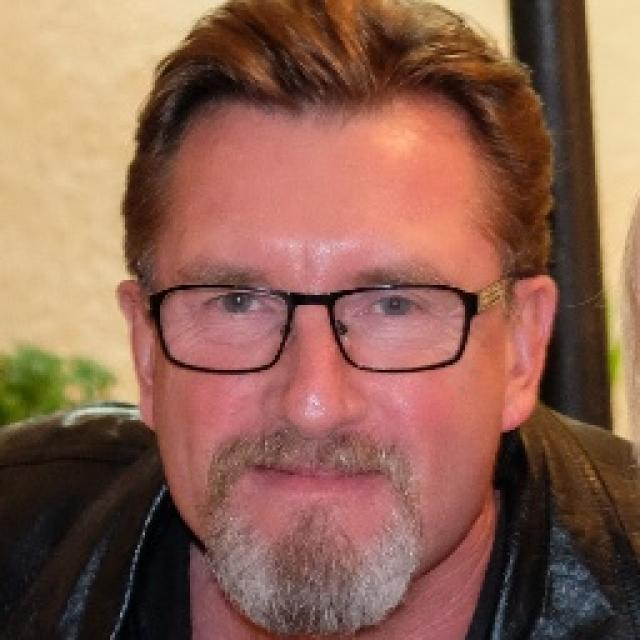earlobe: (499, 276, 558, 433), (116, 279, 156, 427)
